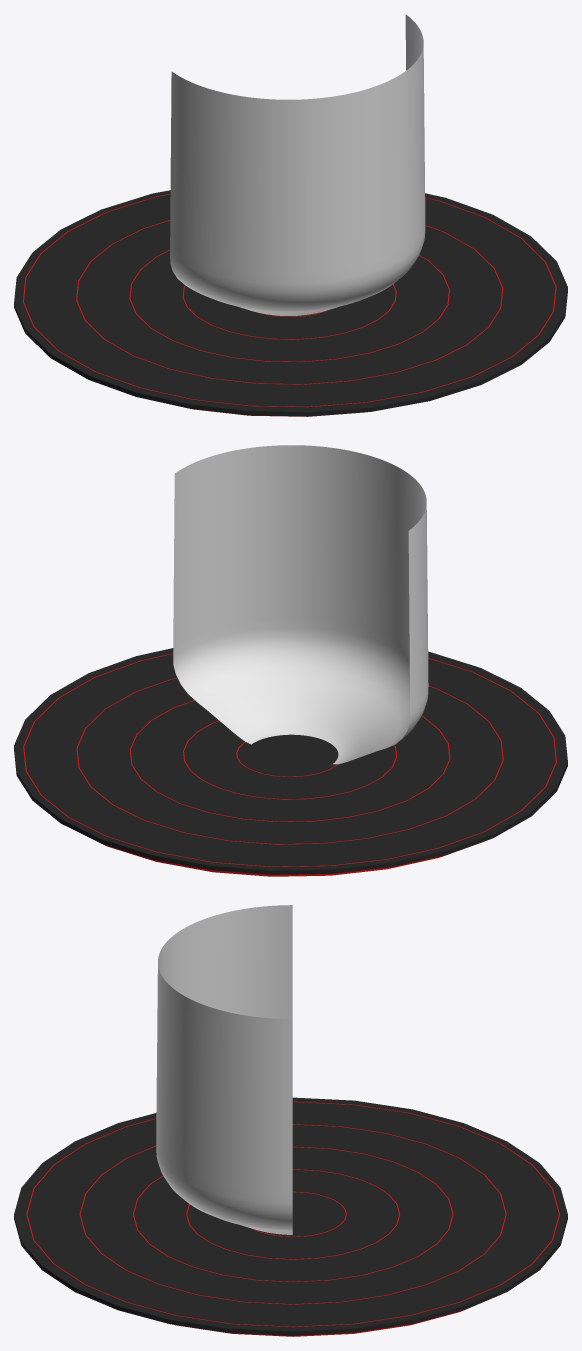
The model's file is waterCoolerField01.FBX.
The picture shows the model from 3 angles, top to bottom: view 1: azimuth 30°, elevation 25°; view 2: azimuth 150°, elevation 25°; view 3: azimuth 270°, elevation 25°; orthographic projection.
Visible parts, largest first — view 1: Circle006, Plane001, distanceRing04, distanceRing03, distanceRing02; view 2: Circle006, Plane001, distanceRing04, distanceRing03, distanceRing02; view 3: Circle006, Plane001, distanceRing04, distanceRing03, distanceRing02.
Boxes of the visible parts, x1,y1,x2,y2 form: Circle006: [14, 190, 567, 416]; Plane001: [170, 14, 425, 315]; distanceRing04: [23, 194, 556, 416]; distanceRing03: [76, 220, 503, 384]; distanceRing02: [129, 250, 449, 362]; Circle006: [14, 648, 567, 874]; Plane001: [173, 445, 428, 764]; distanceRing04: [23, 653, 556, 876]; distanceRing03: [76, 677, 503, 844]; distanceRing02: [129, 700, 450, 821]; Circle006: [14, 1097, 567, 1335]; Plane001: [156, 905, 292, 1234]; distanceRing04: [26, 1101, 559, 1336]; distanceRing03: [79, 1124, 506, 1304]; distanceRing02: [133, 1146, 453, 1282].
Bounding box in the file's own units: 52 × 27.06 × 52.
